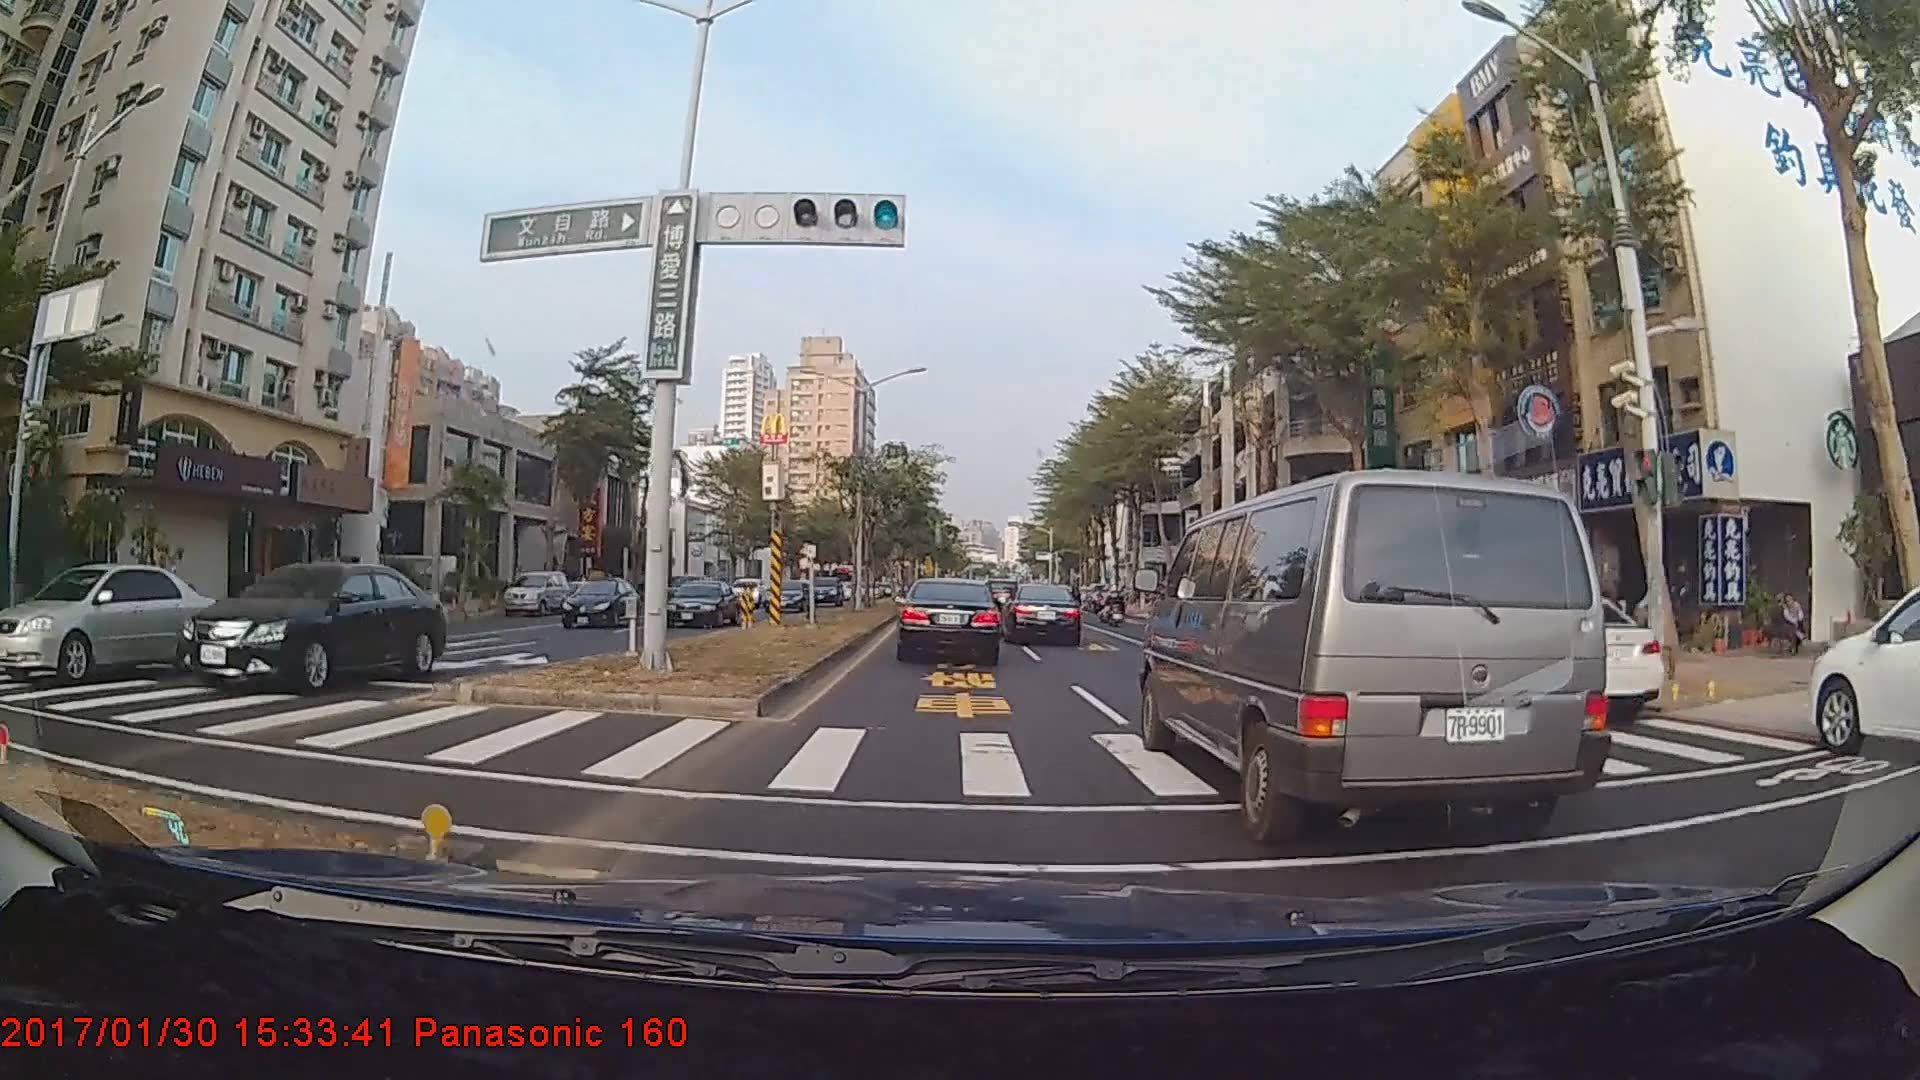vehicle: (1146, 464, 1615, 833), (171, 560, 447, 698), (0, 560, 218, 682), (1466, 593, 1658, 709), (1807, 570, 1917, 764), (895, 578, 1001, 665), (1004, 583, 1083, 644), (559, 578, 640, 628), (659, 578, 737, 626), (502, 568, 571, 616), (762, 580, 808, 613), (806, 575, 843, 608)
